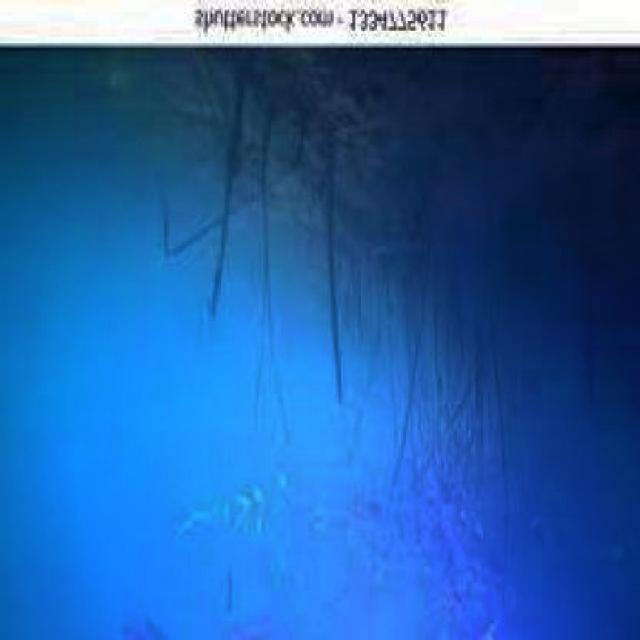misc: (356, 168, 512, 434)
